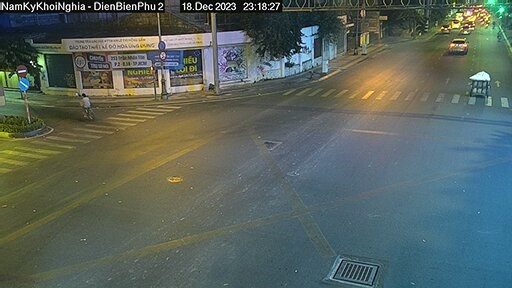car: (445, 35, 469, 53)
